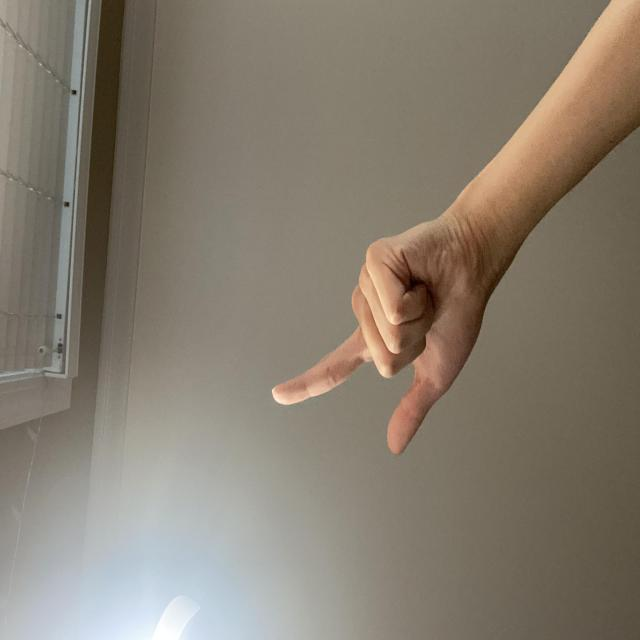L: (132, 353, 333, 640)
